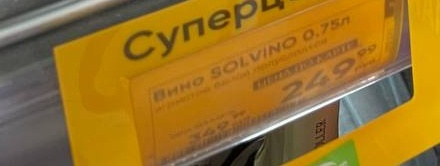1d: (160, 96, 308, 166)
